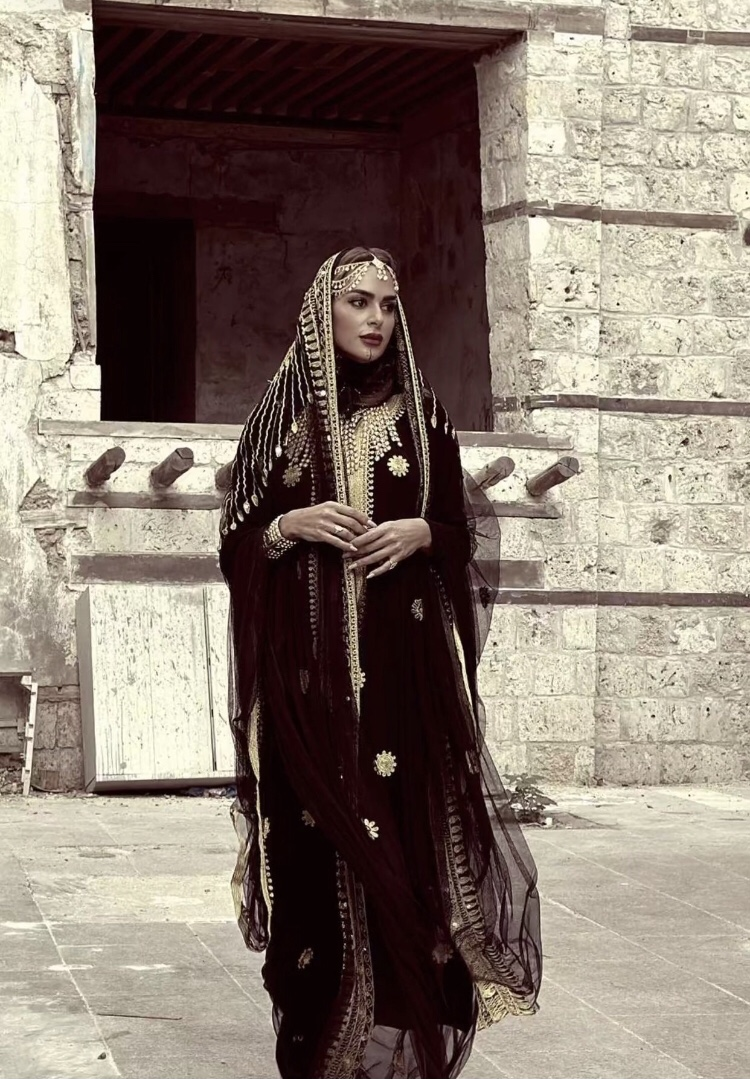Saudi_Founding_Day: (213, 239, 546, 1079)
